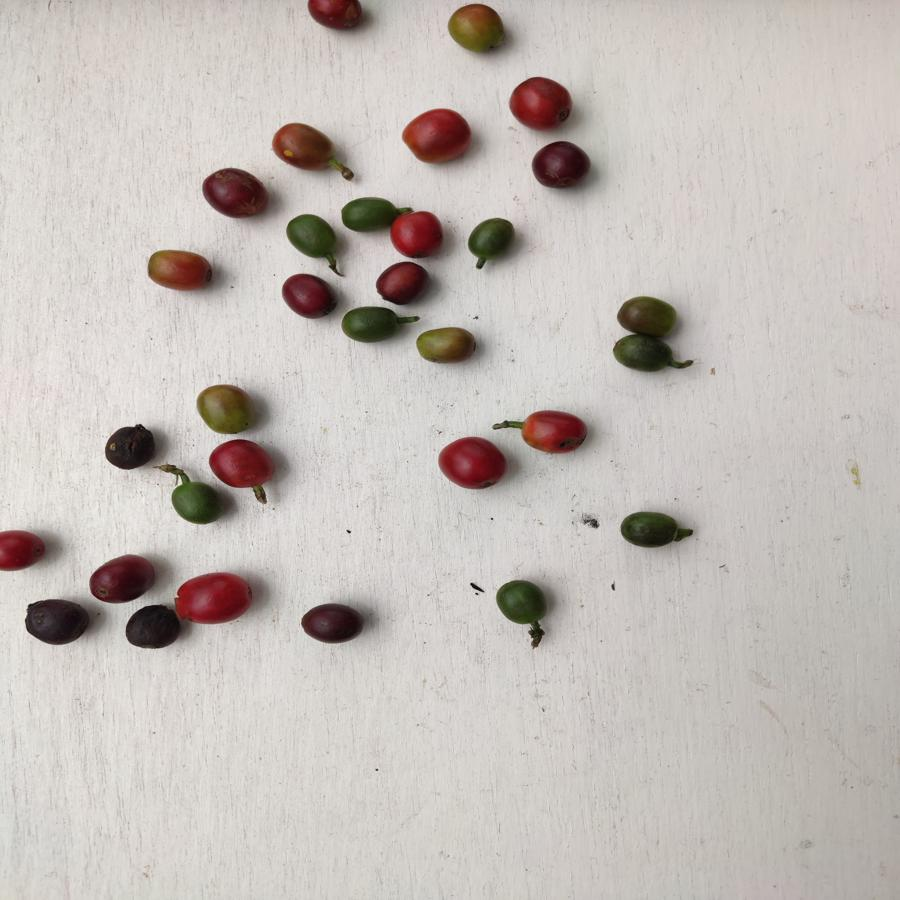Inmaduro: (164, 480, 231, 527), (617, 504, 681, 549), (493, 575, 547, 627), (280, 210, 337, 259), (464, 212, 516, 265), (610, 331, 675, 372), (338, 307, 405, 341), (340, 193, 396, 230)
Maduro: (172, 570, 262, 624), (435, 433, 511, 492), (398, 109, 473, 163), (210, 436, 280, 489), (509, 77, 575, 133), (516, 408, 589, 454), (389, 211, 446, 259), (1, 525, 47, 575)
Pinton: (144, 244, 215, 295), (266, 122, 335, 173), (444, 1, 510, 54), (196, 385, 260, 431), (415, 324, 479, 369), (617, 293, 677, 339)
Sobremaduro: (201, 165, 270, 220), (20, 597, 95, 646), (87, 552, 157, 604), (529, 138, 596, 190), (298, 599, 366, 648), (278, 270, 341, 319), (121, 604, 185, 650), (100, 423, 159, 471), (376, 259, 432, 305), (304, 1, 367, 28)
